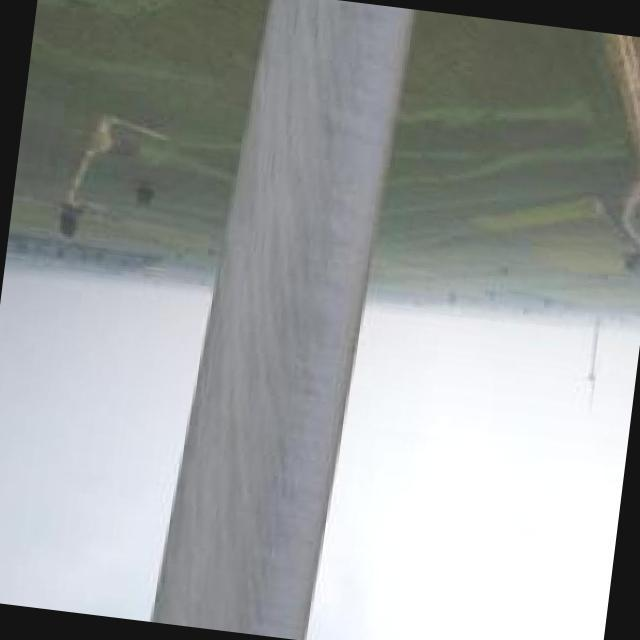Dirt: (152, 6, 376, 640)
